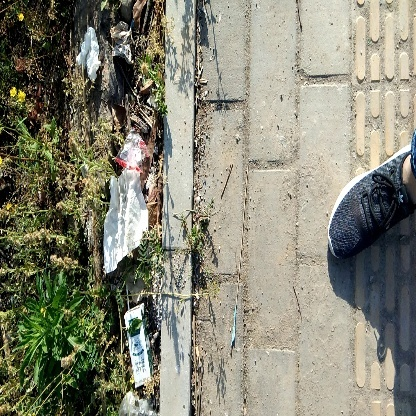milk-box: (122, 300, 156, 389)
